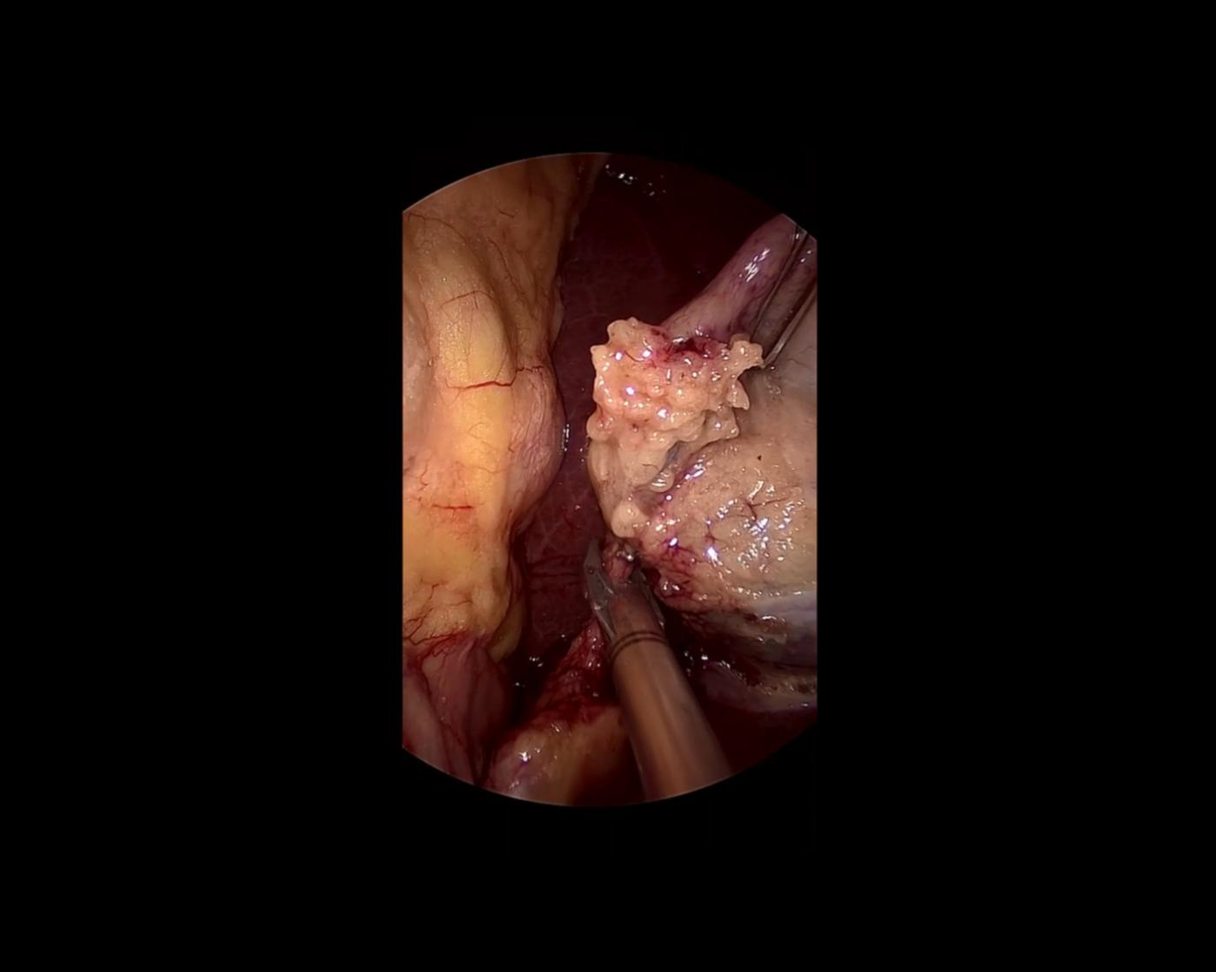Forceps: (721, 227, 849, 371)
Gallbladder: (588, 215, 816, 658)
Liver: (437, 152, 777, 691)
